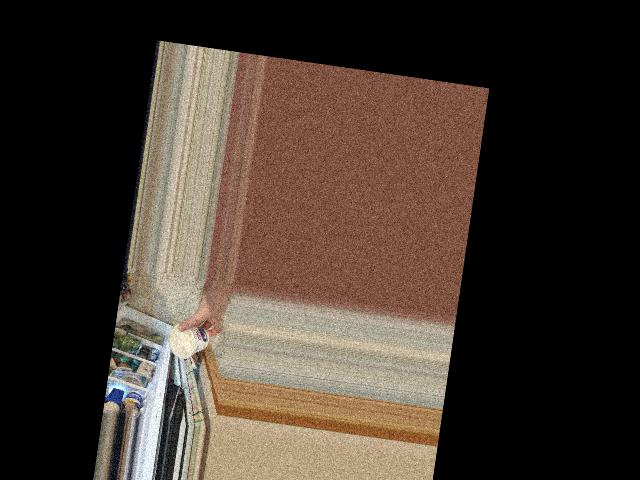cotage: (165, 318, 212, 366)
